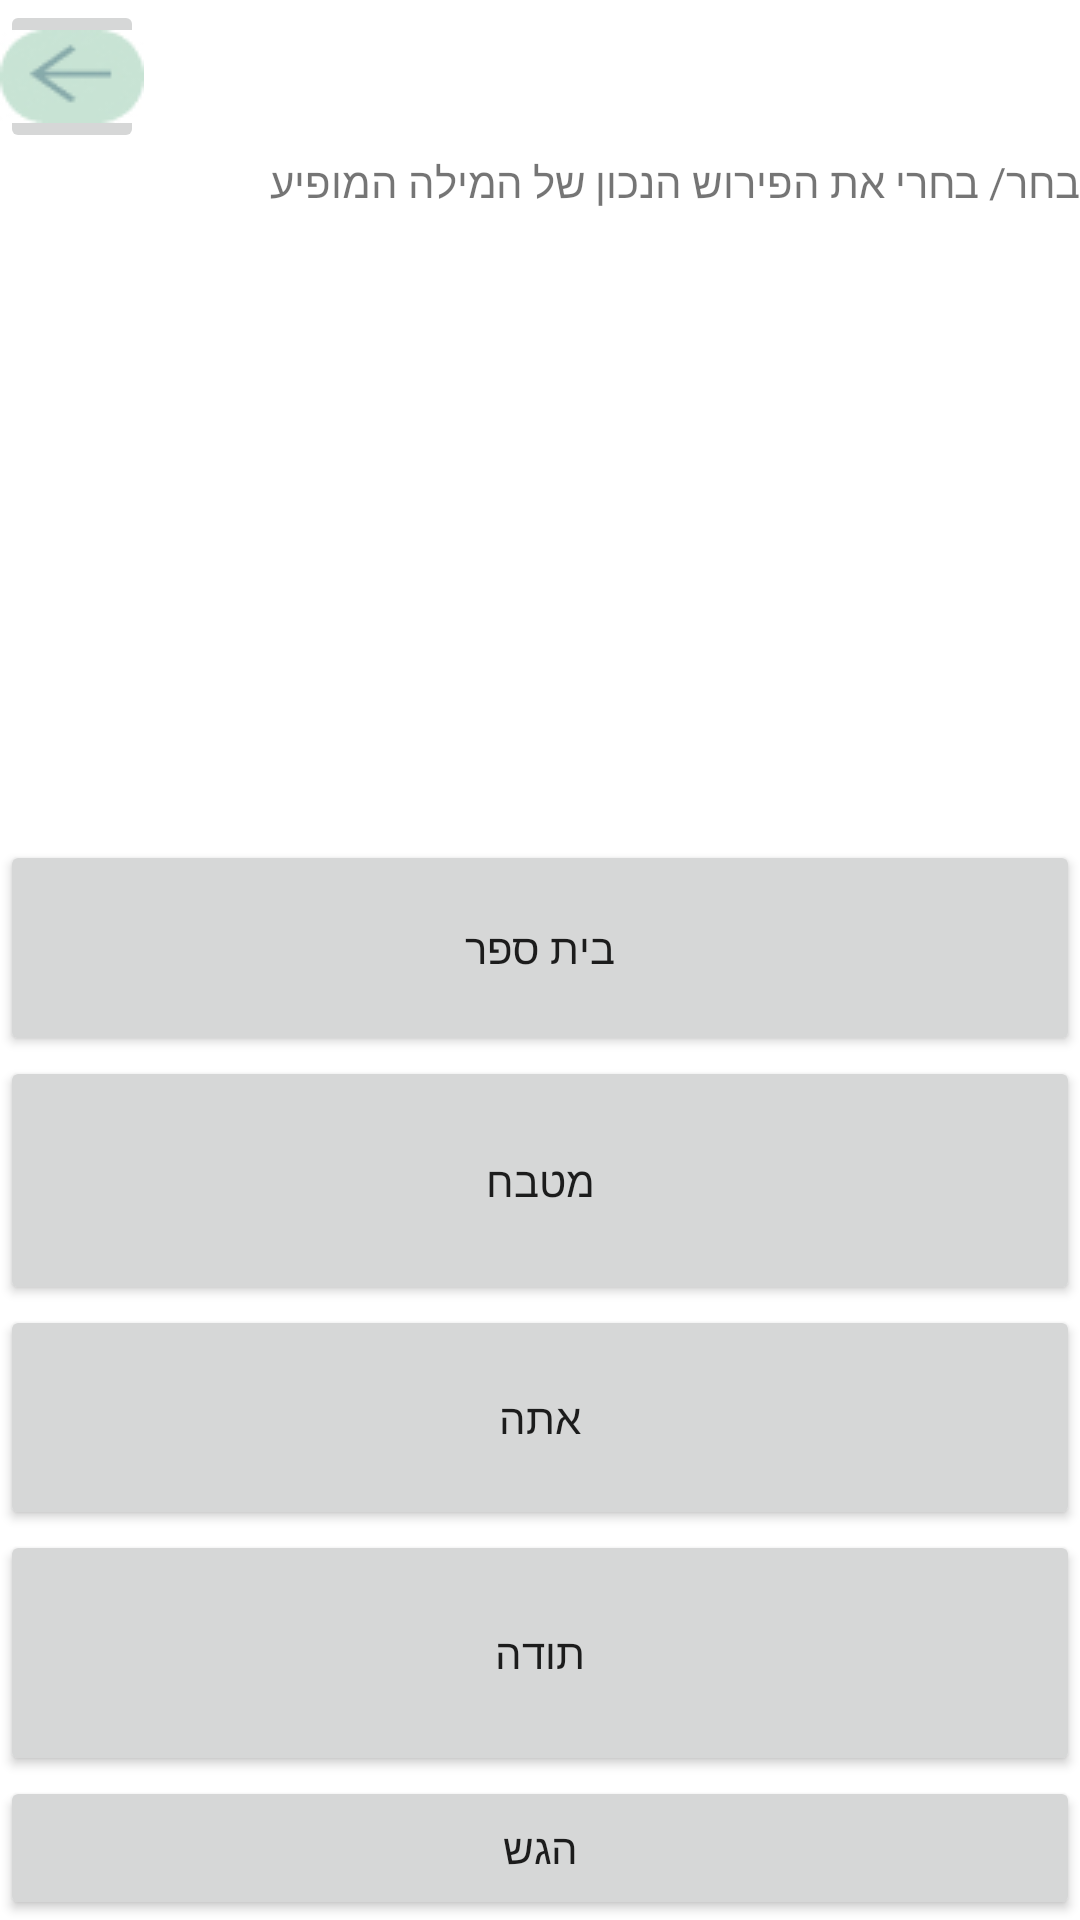

Icons on this 1080 x 1920 Android screen, each with the point to tap as (x,y):
Go To HebrewLevels: (72,76)
